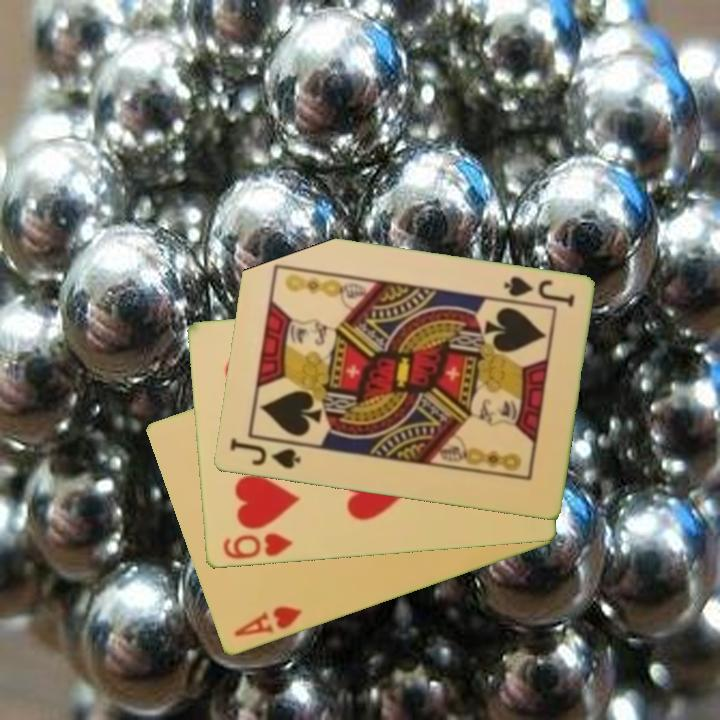6h: (219, 530, 295, 563)
Ah: (230, 603, 305, 641)
Js: (226, 434, 303, 472), (500, 273, 577, 311)
